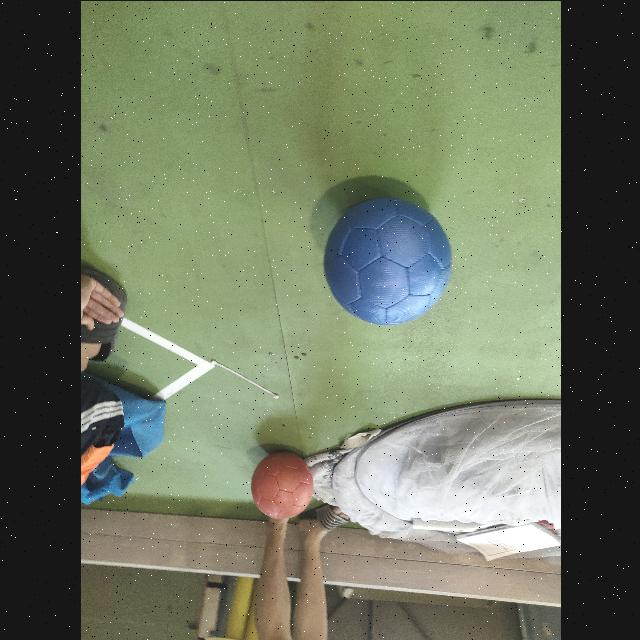B: (324, 197, 451, 324)
R: (250, 451, 312, 518)
